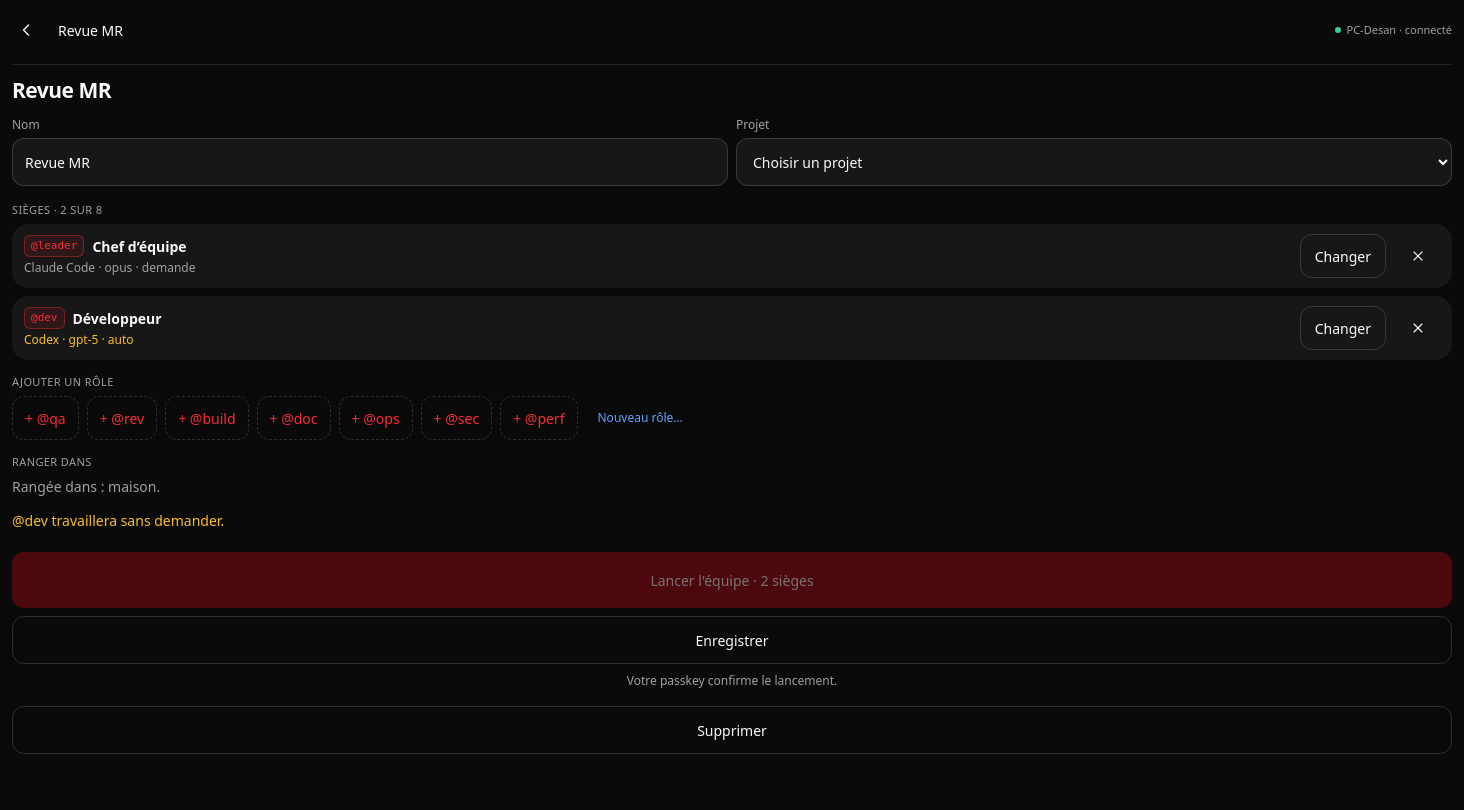
Scenario: the team editor, a definition › « Reprendre la version du PC » drops the unsaved edits for the PC's
Replace the text in the field labelled "Nom" with "Mon nom": (370,162) x1=12 y1=138 x2=728 y2=186
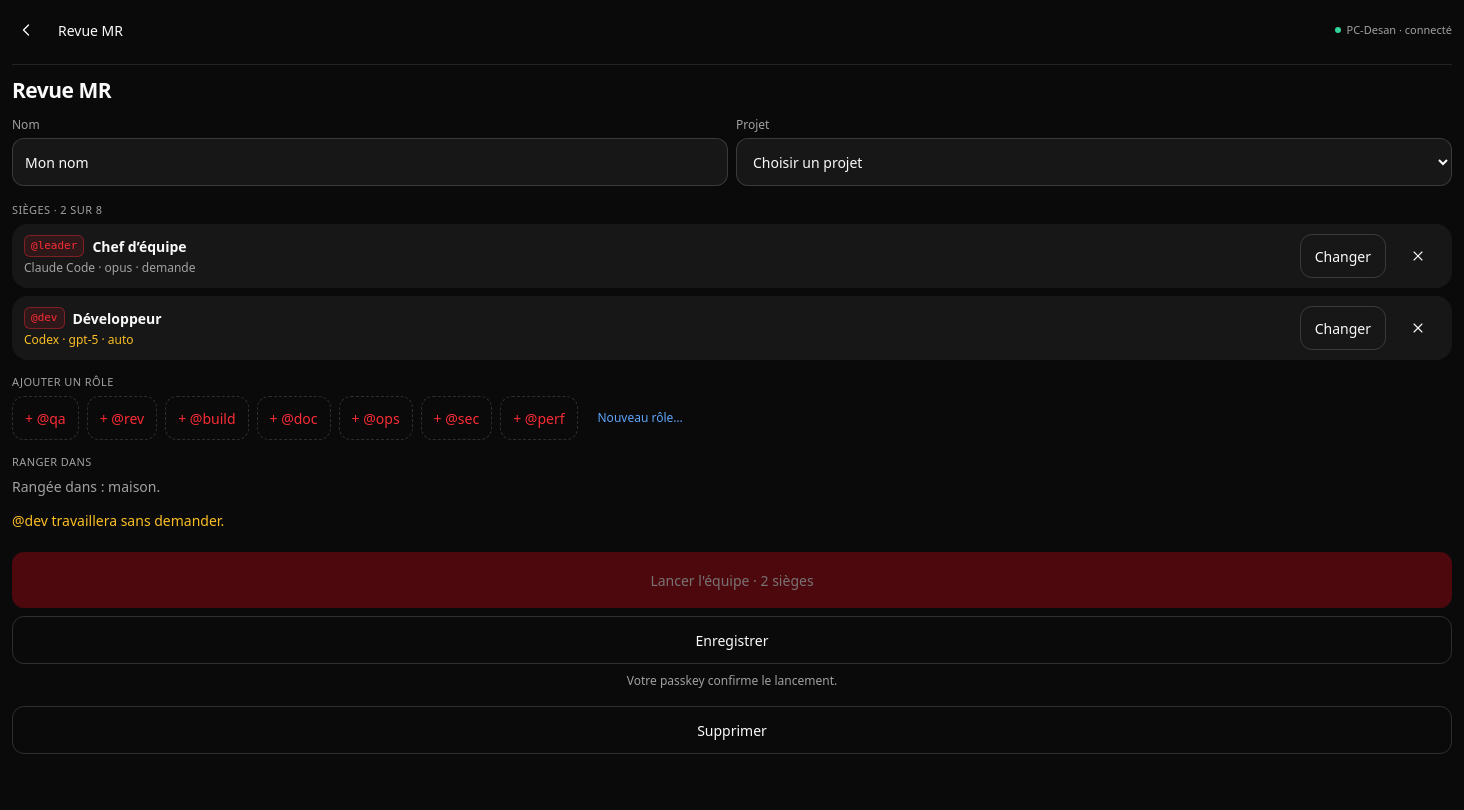
Click the button named "Retirer @dev": (1418,328) x1=1396 y1=306 x2=1440 y2=350
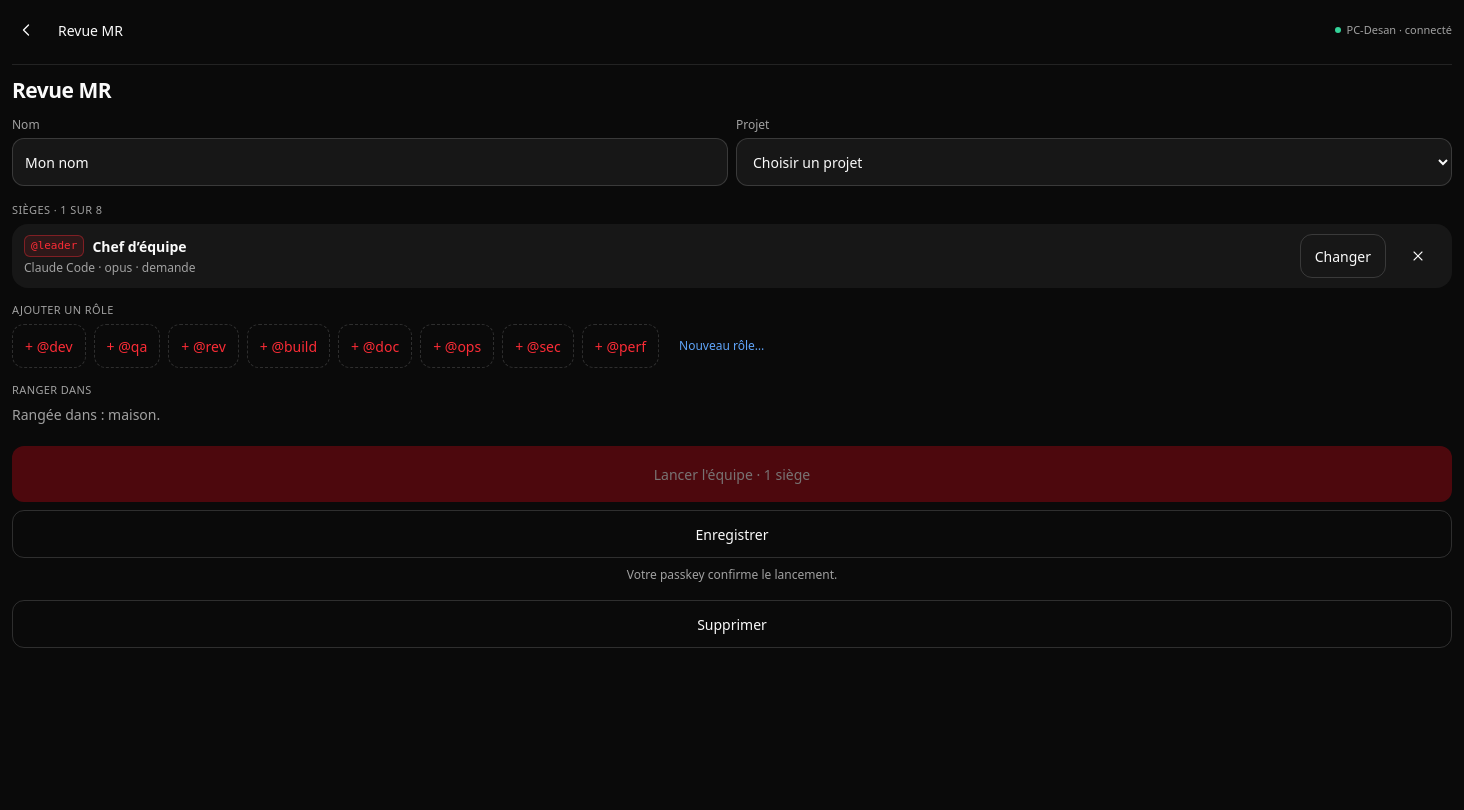
Click the button "Enregistrer": (732,534) x1=12 y1=510 x2=1452 y2=558
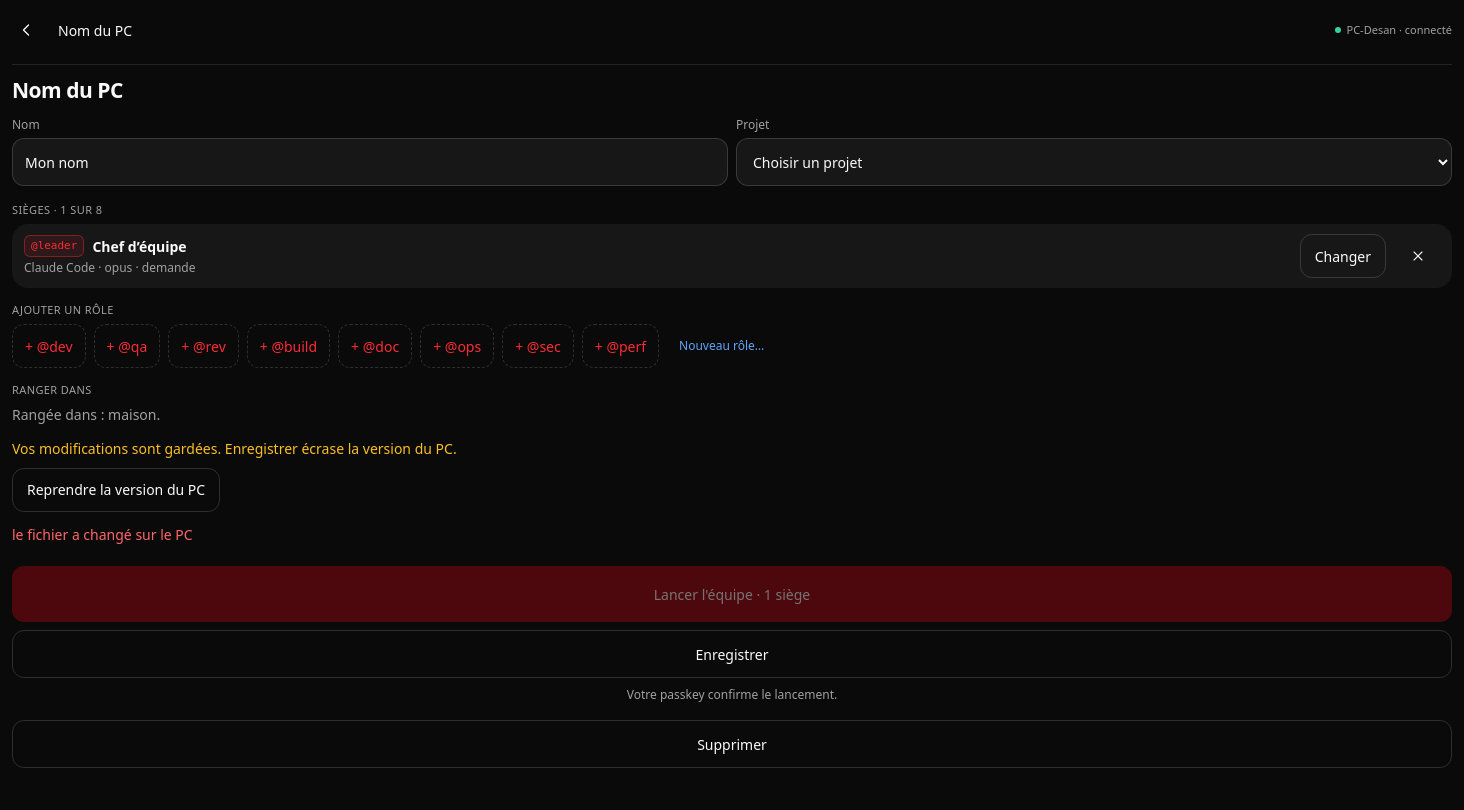
Click the button "Reprendre la version du PC": (116,490) x1=12 y1=468 x2=220 y2=512
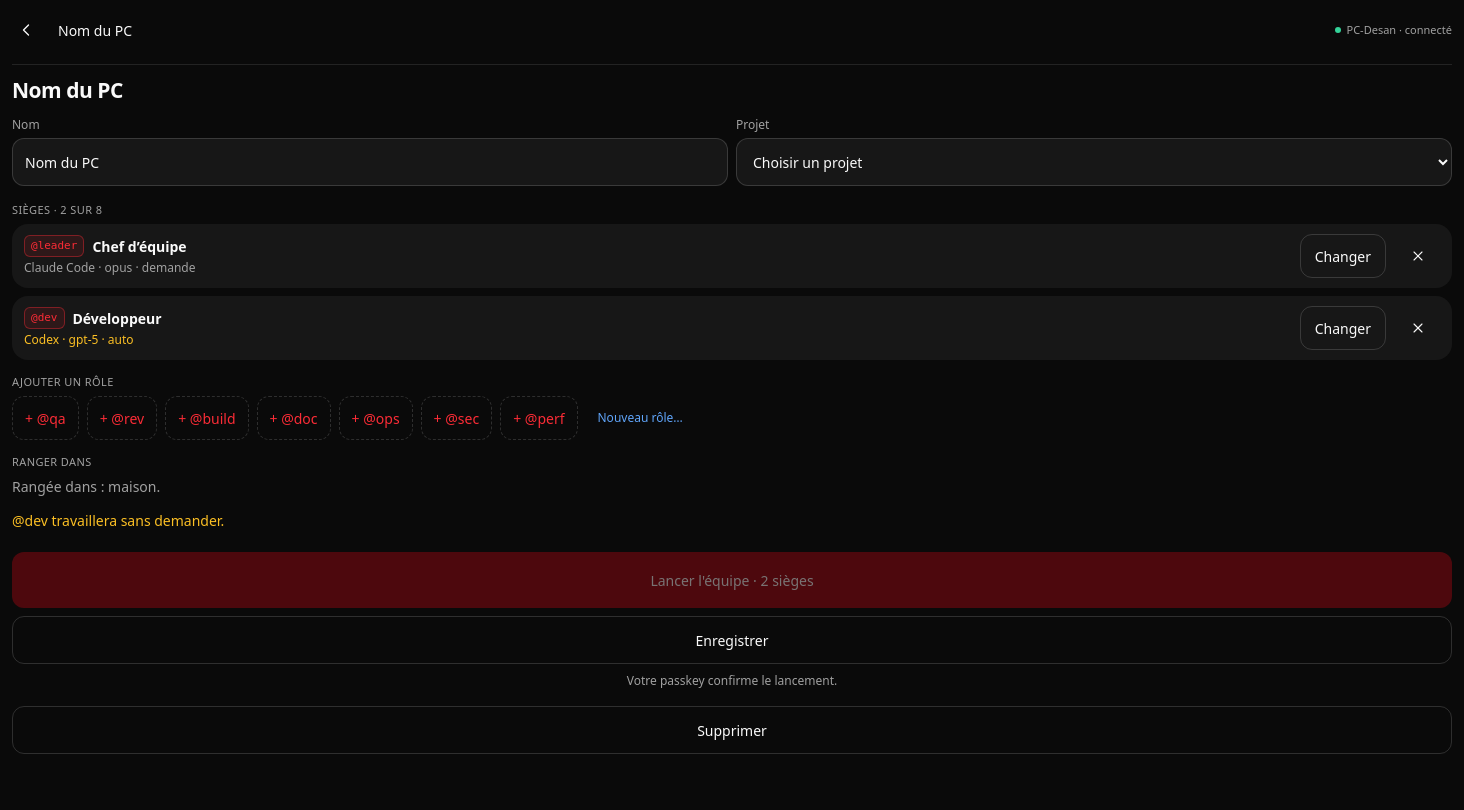
Expected: the field labelled "Nom" holds "Nom du PC", x1=12 y1=138 x2=728 y2=186
Expected: the text "@dev" is shown, x1=24 y1=307 x2=64 y2=329
